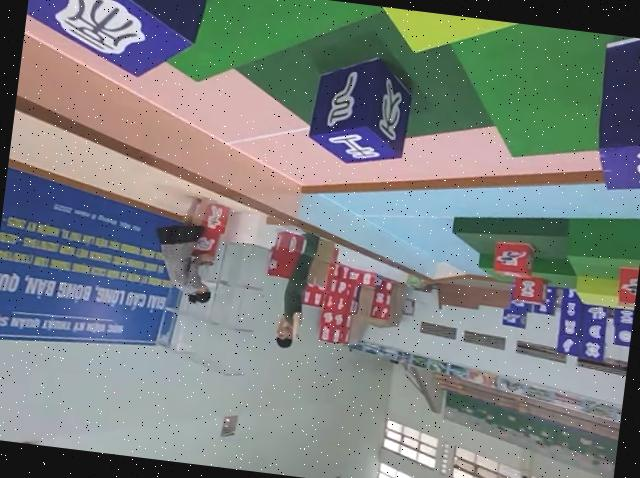R2 Fake Blue: (19, 0, 207, 82), (305, 47, 417, 167), (590, 33, 640, 189)
